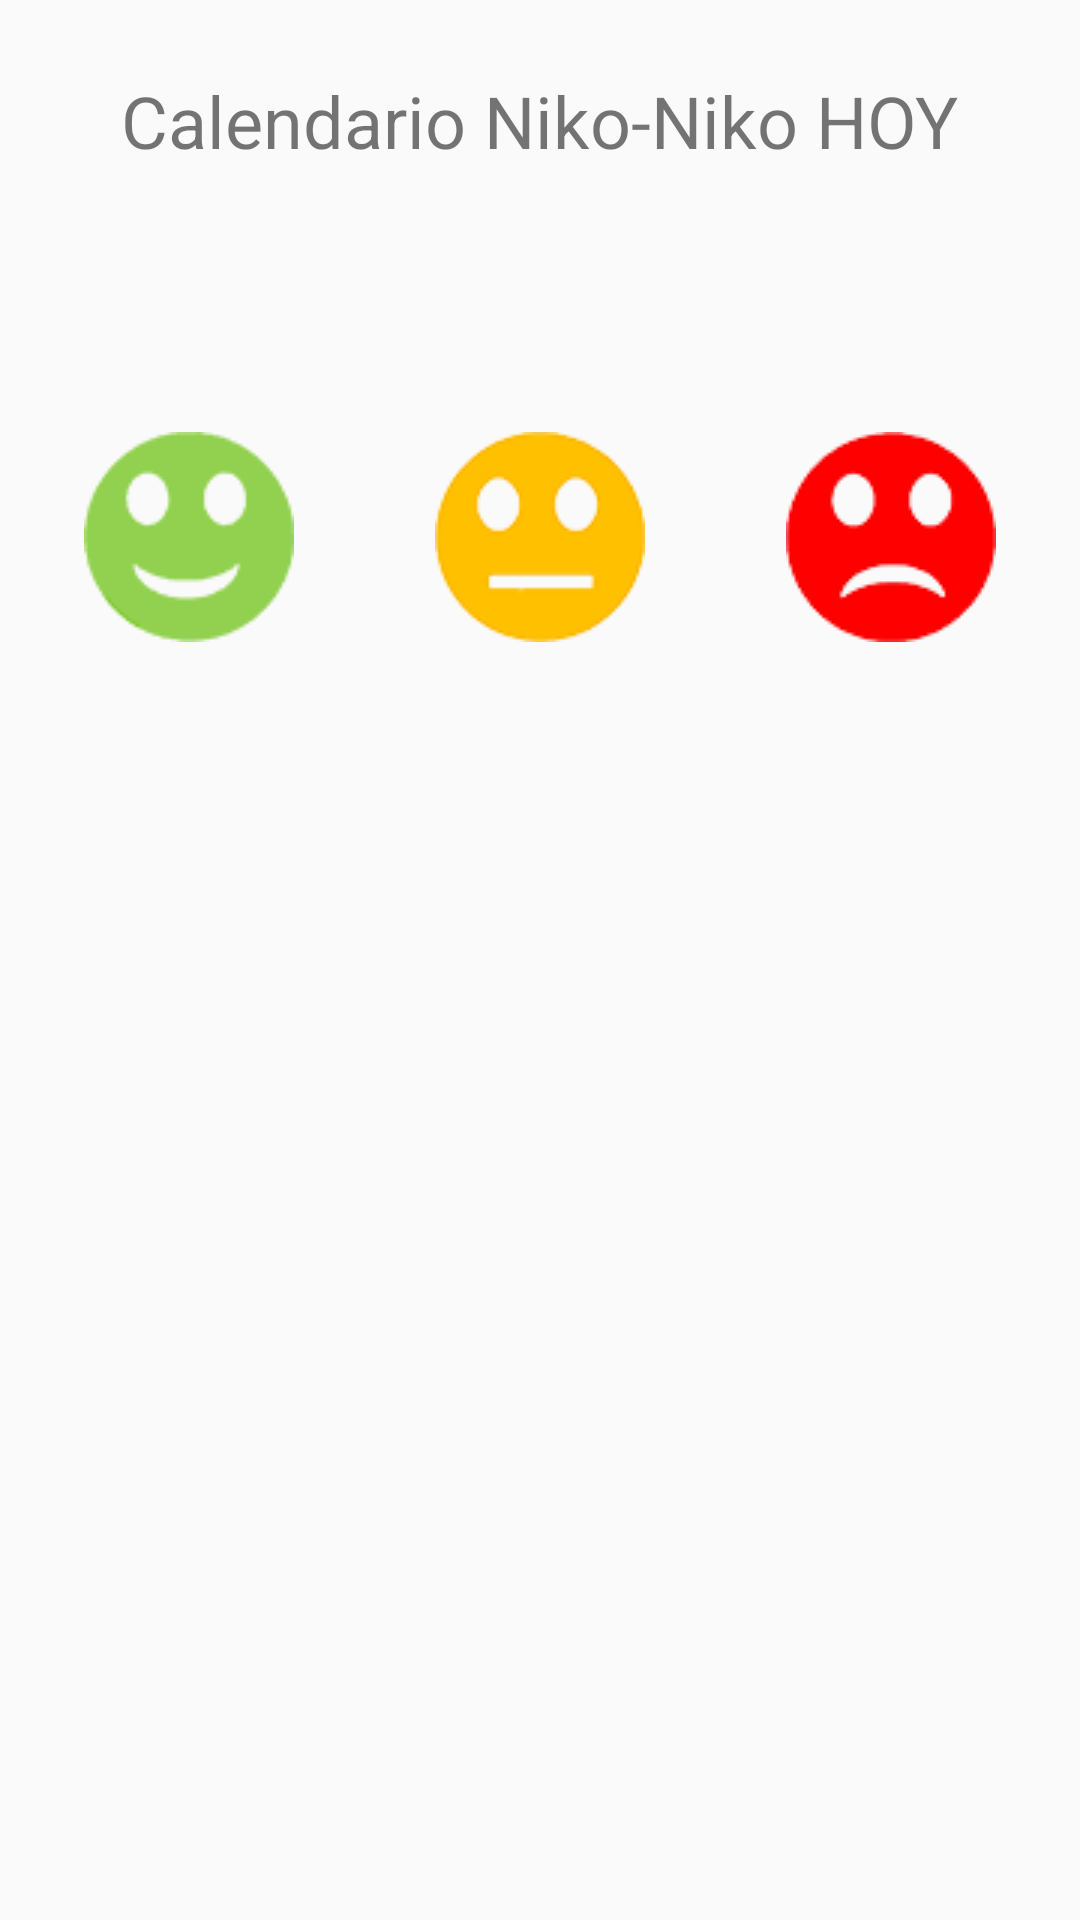

Named icons in this screenshot (1080w x 1920h) and their centers, [x,y]:
cara amarilla: [540,537]
cara roja: [891,537]
cara verde: [189,537]
